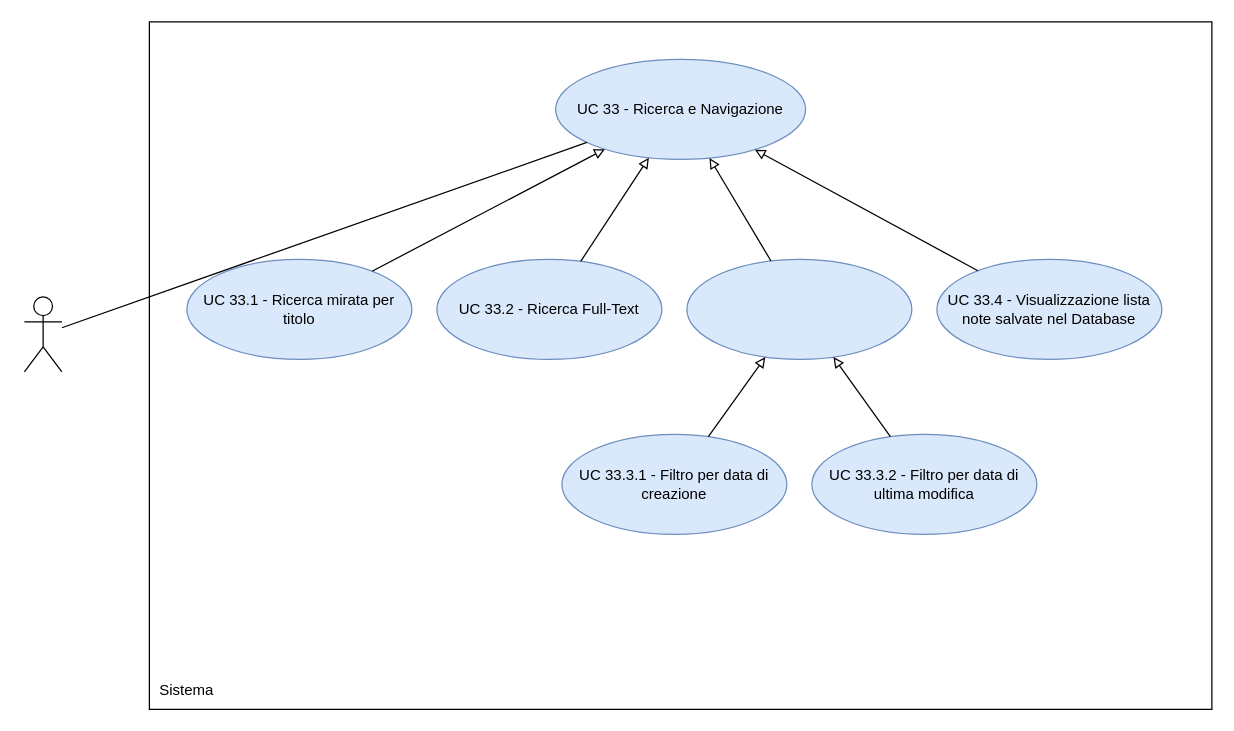
The diagram is 1234 pixels wide and 731 high, and some of its shapes have lost their labels. The box of each missing label's shape, as (x1, y1, x2, y2) in pixels:
UC 33.3 - Filtro per data: (686, 258, 912, 359)
Utente: (23, 296, 62, 372)
